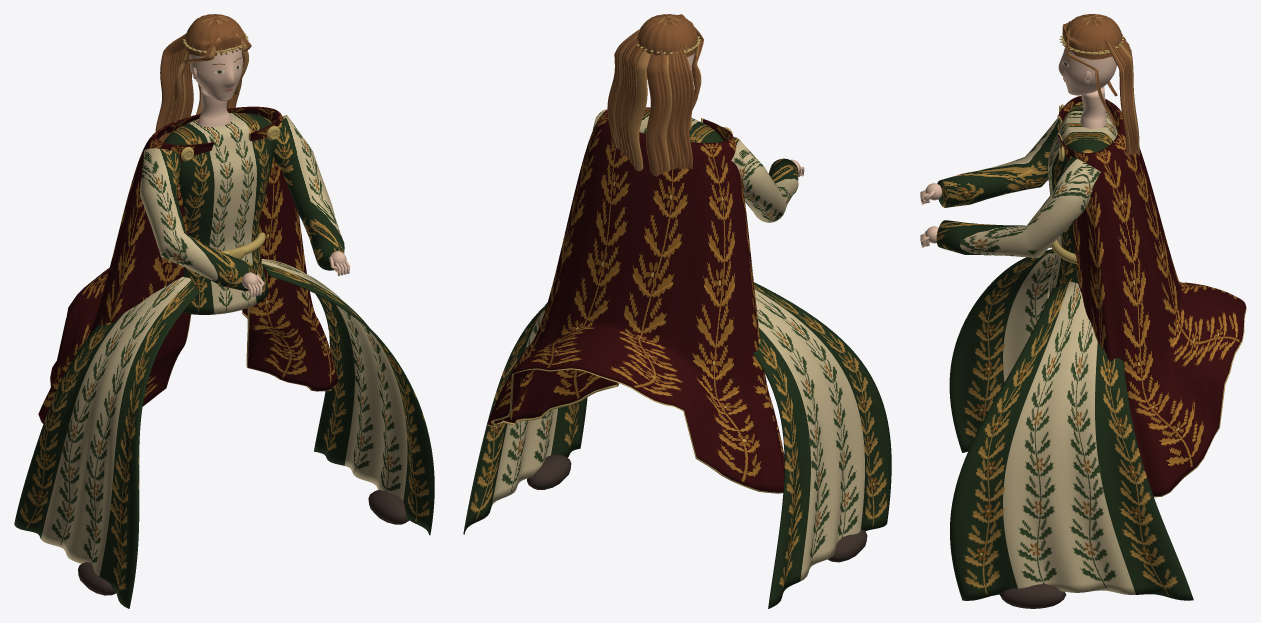
Rendered from princess-v18-mounted.glb.
3 views of the same model, side by side, from view 1: azimuth 30°, elevation 25°; view 2: azimuth 150°, elevation 25°; view 3: azimuth 270°, elevation 25° (orthographic).
Parts seen in each view (by area): view 1: MorrisPrincess_surface, cape_surface, body_surface, head_surface, armL_surface, armR_surface; view 2: cape_surface, MorrisPrincess_surface, head_surface, armL_surface, body_surface; view 3: MorrisPrincess_surface, cape_surface, armR_surface, head_surface, body_surface, armL_surface.
Boxes of the visible parts, left/top/right/bottom form: MorrisPrincess_surface: left=14, top=259, right=434, bottom=608; cape_surface: left=38, top=106, right=337, bottom=423; body_surface: left=163, top=87, right=279, bottom=314; head_surface: left=155, top=14, right=251, bottom=142; armL_surface: left=140, top=148, right=264, bottom=297; armR_surface: left=273, top=115, right=350, bottom=276; cape_surface: left=487, top=107, right=784, bottom=493; MorrisPrincess_surface: left=463, top=282, right=891, bottom=608; head_surface: left=607, top=14, right=703, bottom=176; armL_surface: left=724, top=137, right=804, bottom=222; body_surface: left=639, top=111, right=732, bottom=142; MorrisPrincess_surface: left=949, top=249, right=1193, bottom=608; cape_surface: left=1057, top=95, right=1246, bottom=497; armR_surface: left=920, top=156, right=1100, bottom=257; head_surface: left=1058, top=14, right=1139, bottom=156; body_surface: left=1047, top=86, right=1117, bottom=298; armL_surface: left=920, top=96, right=1082, bottom=207.
Bounding box in the file's own units: 0.948 × 1.46 × 0.8319.
Materials: 12 (2 with a texture image).
